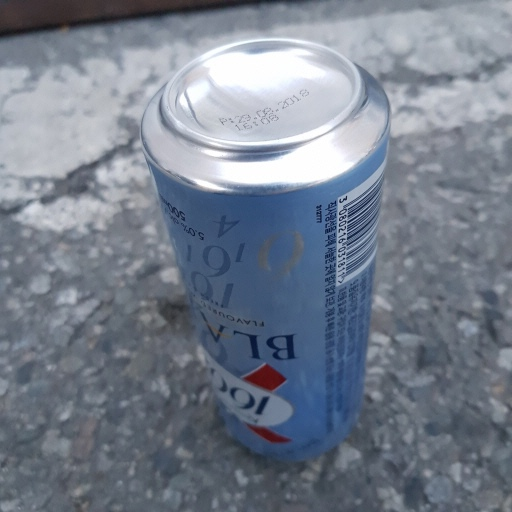Metal_0: (138, 40, 396, 477)
